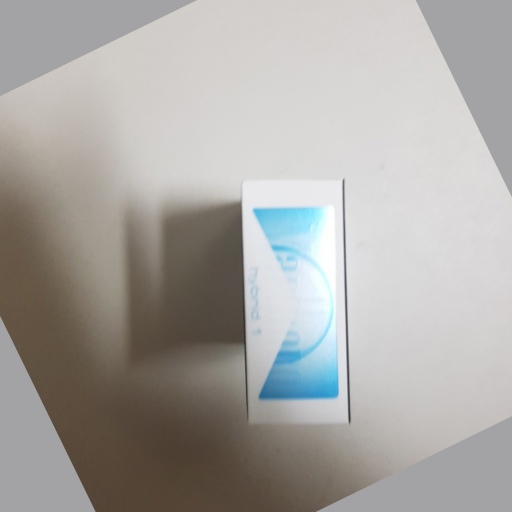Paper_0: (209, 172, 364, 441)
